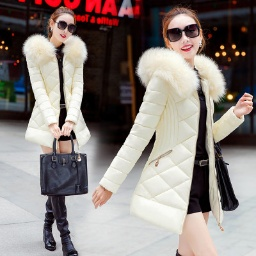face: (161, 5, 207, 61), (47, 6, 75, 45)
